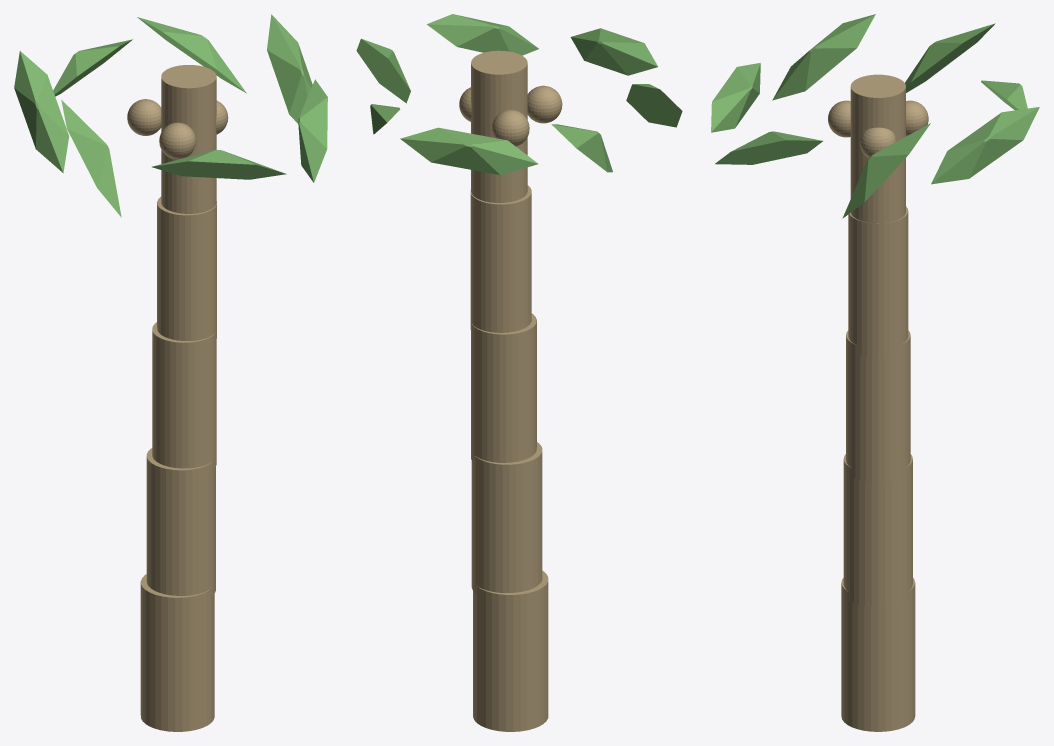
Rendered from palm_tree.glb.
3 renders of one model, left to right at view 1: azimuth 30°, elevation 25°; view 2: azimuth 150°, elevation 25°; view 3: azimuth 270°, elevation 25°, orthographic. The views are drawn at different scales.
Visible parts, largest first — view 1: Cylinder, Cylinder.001, Cylinder.002, Cylinder.003, Cylinder.004, Cone.003, Cone, Cone.005, Cone.004, Cone.006, Cone.001, Cone.002 (+2 smaller); view 2: Cylinder, Cylinder.001, Cylinder.002, Cylinder.003, Cylinder.004, Cone.002, Cone.006, Cone.005, Cone, Cone.004, Cone.003, Sphere.002 (+2 smaller); view 3: Cylinder, Cylinder.001, Cylinder.002, Cylinder.003, Cylinder.004, Cone.001, Cone.004, Cone.005, Cone, Cone.006, Cone.003, Cone.002 (+3 smaller).
Boxes of the visible parts, x1,y1,x2,y2 form: Cylinder: (140,574,214,731); Cylinder.001: (146,448,215,596); Cylinder.002: (152,322,216,468); Cylinder.003: (157,196,216,340); Cylinder.004: (161,65,216,213); Cone.003: (14,51,69,172); Cone: (267,14,312,123); Cone.005: (152,149,286,179); Cone.004: (61,100,121,217); Cone.006: (298,79,327,182); Cone.001: (137,17,246,93); Cone.002: (53,39,132,96); Cylinder: (473,570,548,731); Cylinder.001: (471,442,542,593); Cylinder.002: (471,313,536,463); Cylinder.003: (470,185,531,332); Cylinder.004: (471,50,527,202); Cone.002: (400,127,538,174); Cone.006: (427,14,538,55); Cone.005: (570,28,657,75); Cone: (356,38,410,103); Cone.004: (626,84,682,127); Cone.003: (551,124,612,172); Sphere.002: (527,85,562,123); Cylinder: (841,578,915,731); Cylinder.001: (843,454,912,607); Cylinder.002: (846,330,910,482); Cylinder.003: (848,206,908,357); Cylinder.004: (850,74,905,223); Cone.001: (931,107,1039,184); Cone.004: (772,14,875,100); Cone.005: (711,63,760,132); Cone: (842,123,930,218); Cone.006: (715,131,822,164); Cone.003: (905,23,995,92); Cone.002: (981,80,1027,110).
Size of the model in its own units: 0.6602 by 1.56 by 0.7131.
